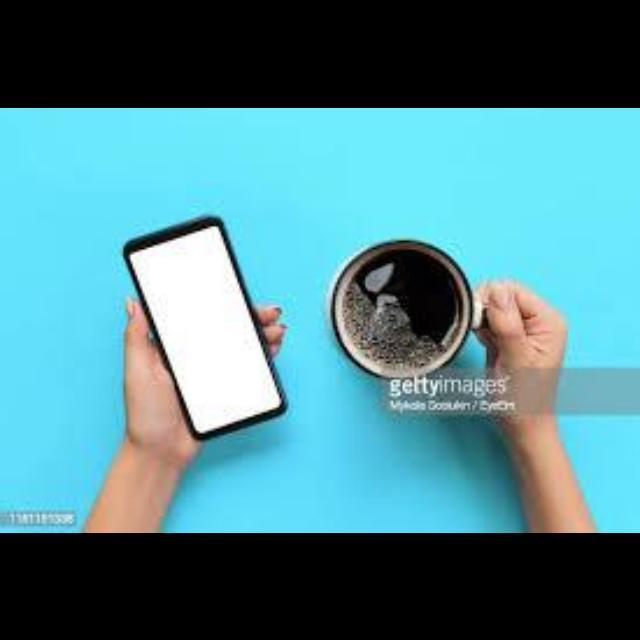Phone: (124, 215, 290, 440)
